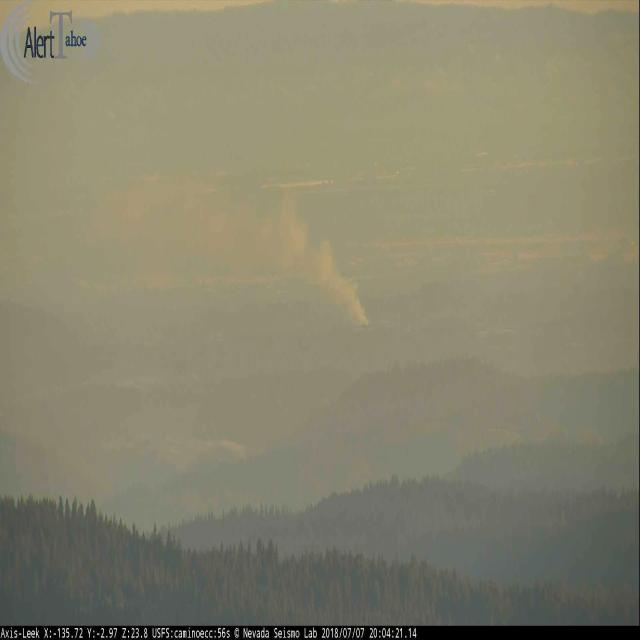smoke: (274, 189, 371, 325)
